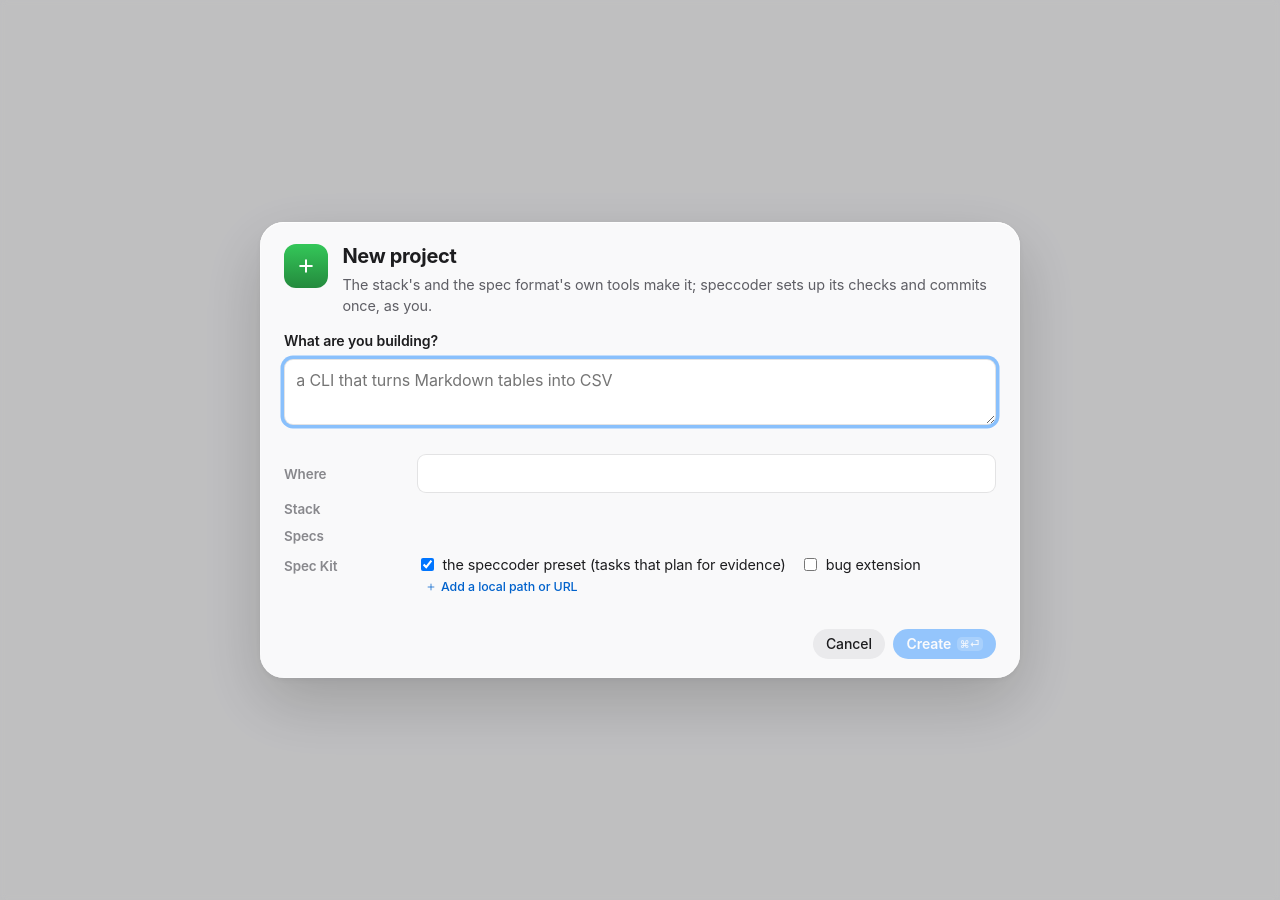
Test: NewProject › shows each step's state as it runs, the failed one with its output and the ways out
Type "a CLI" into the text box labelled "What are you building?" at point(640, 392), box [284,358,996,424]
Wait 350 ms
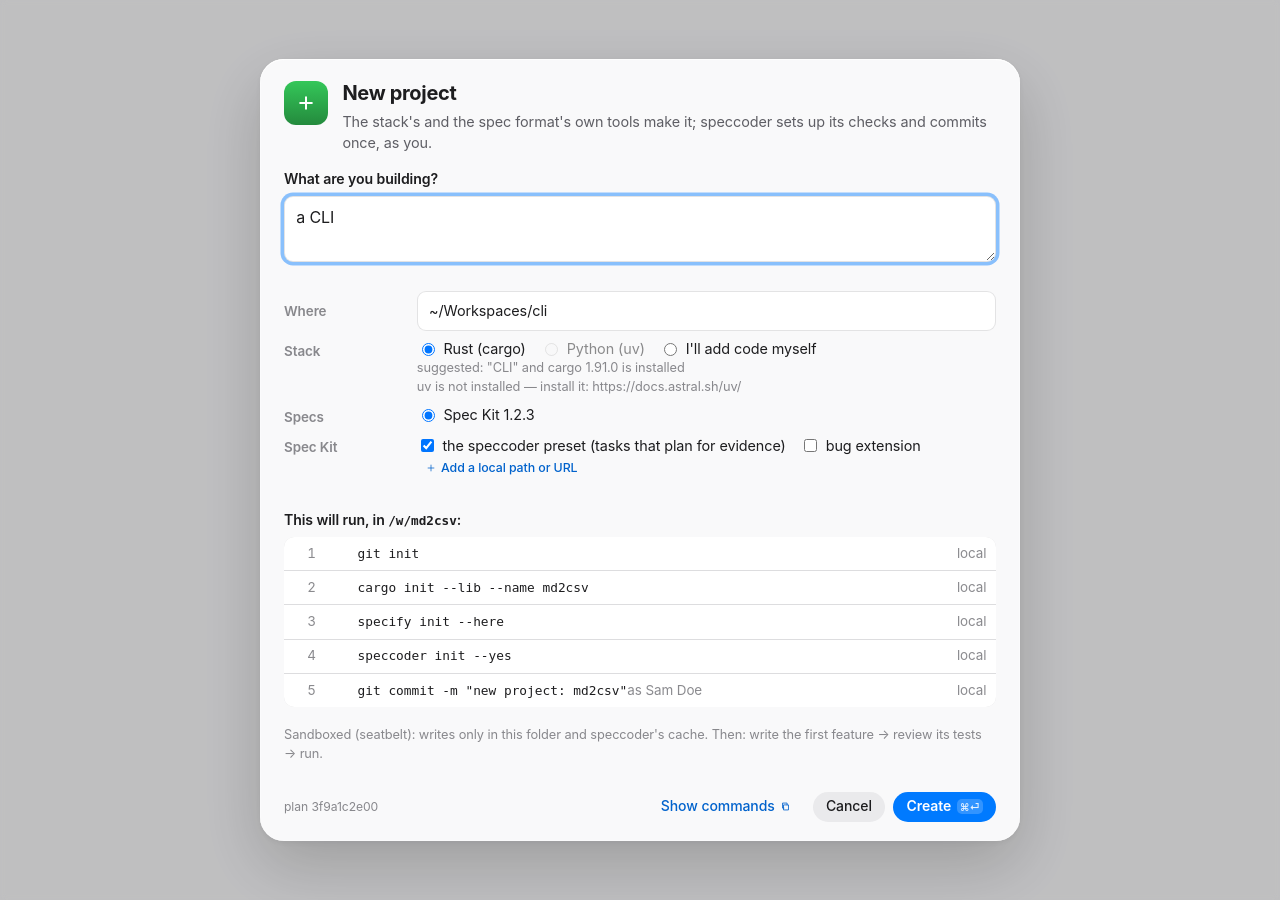
Click the button "Create ⌘⏎" at point(945, 807), box [893,792,996,822]
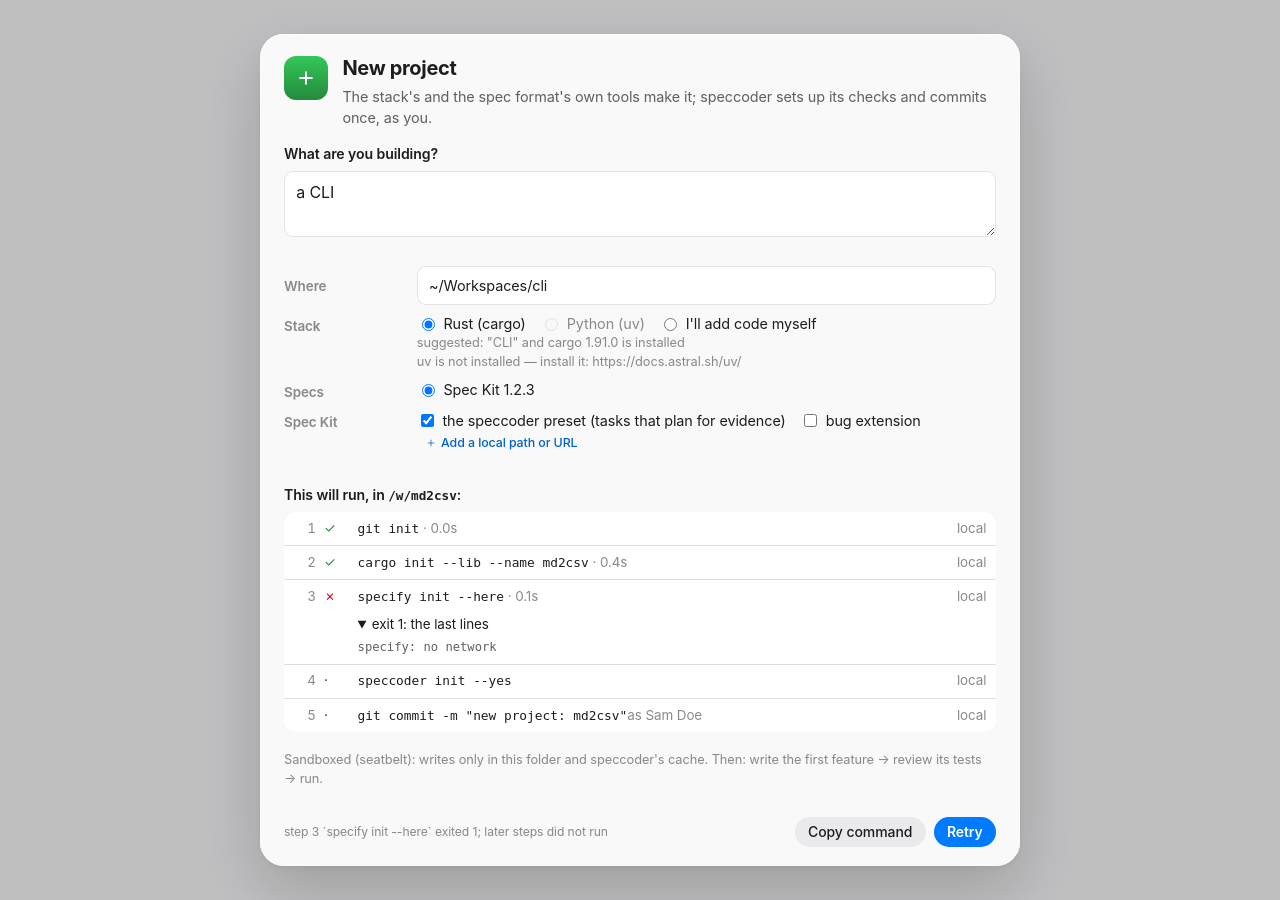
expect the text "specify: no network" is shown: met, box [358,640,497,654]
expect the button "Copy command" is shown: met, box [795,817,926,847]
expect the button "Retry" is shown: met, box [934,817,996,847]
